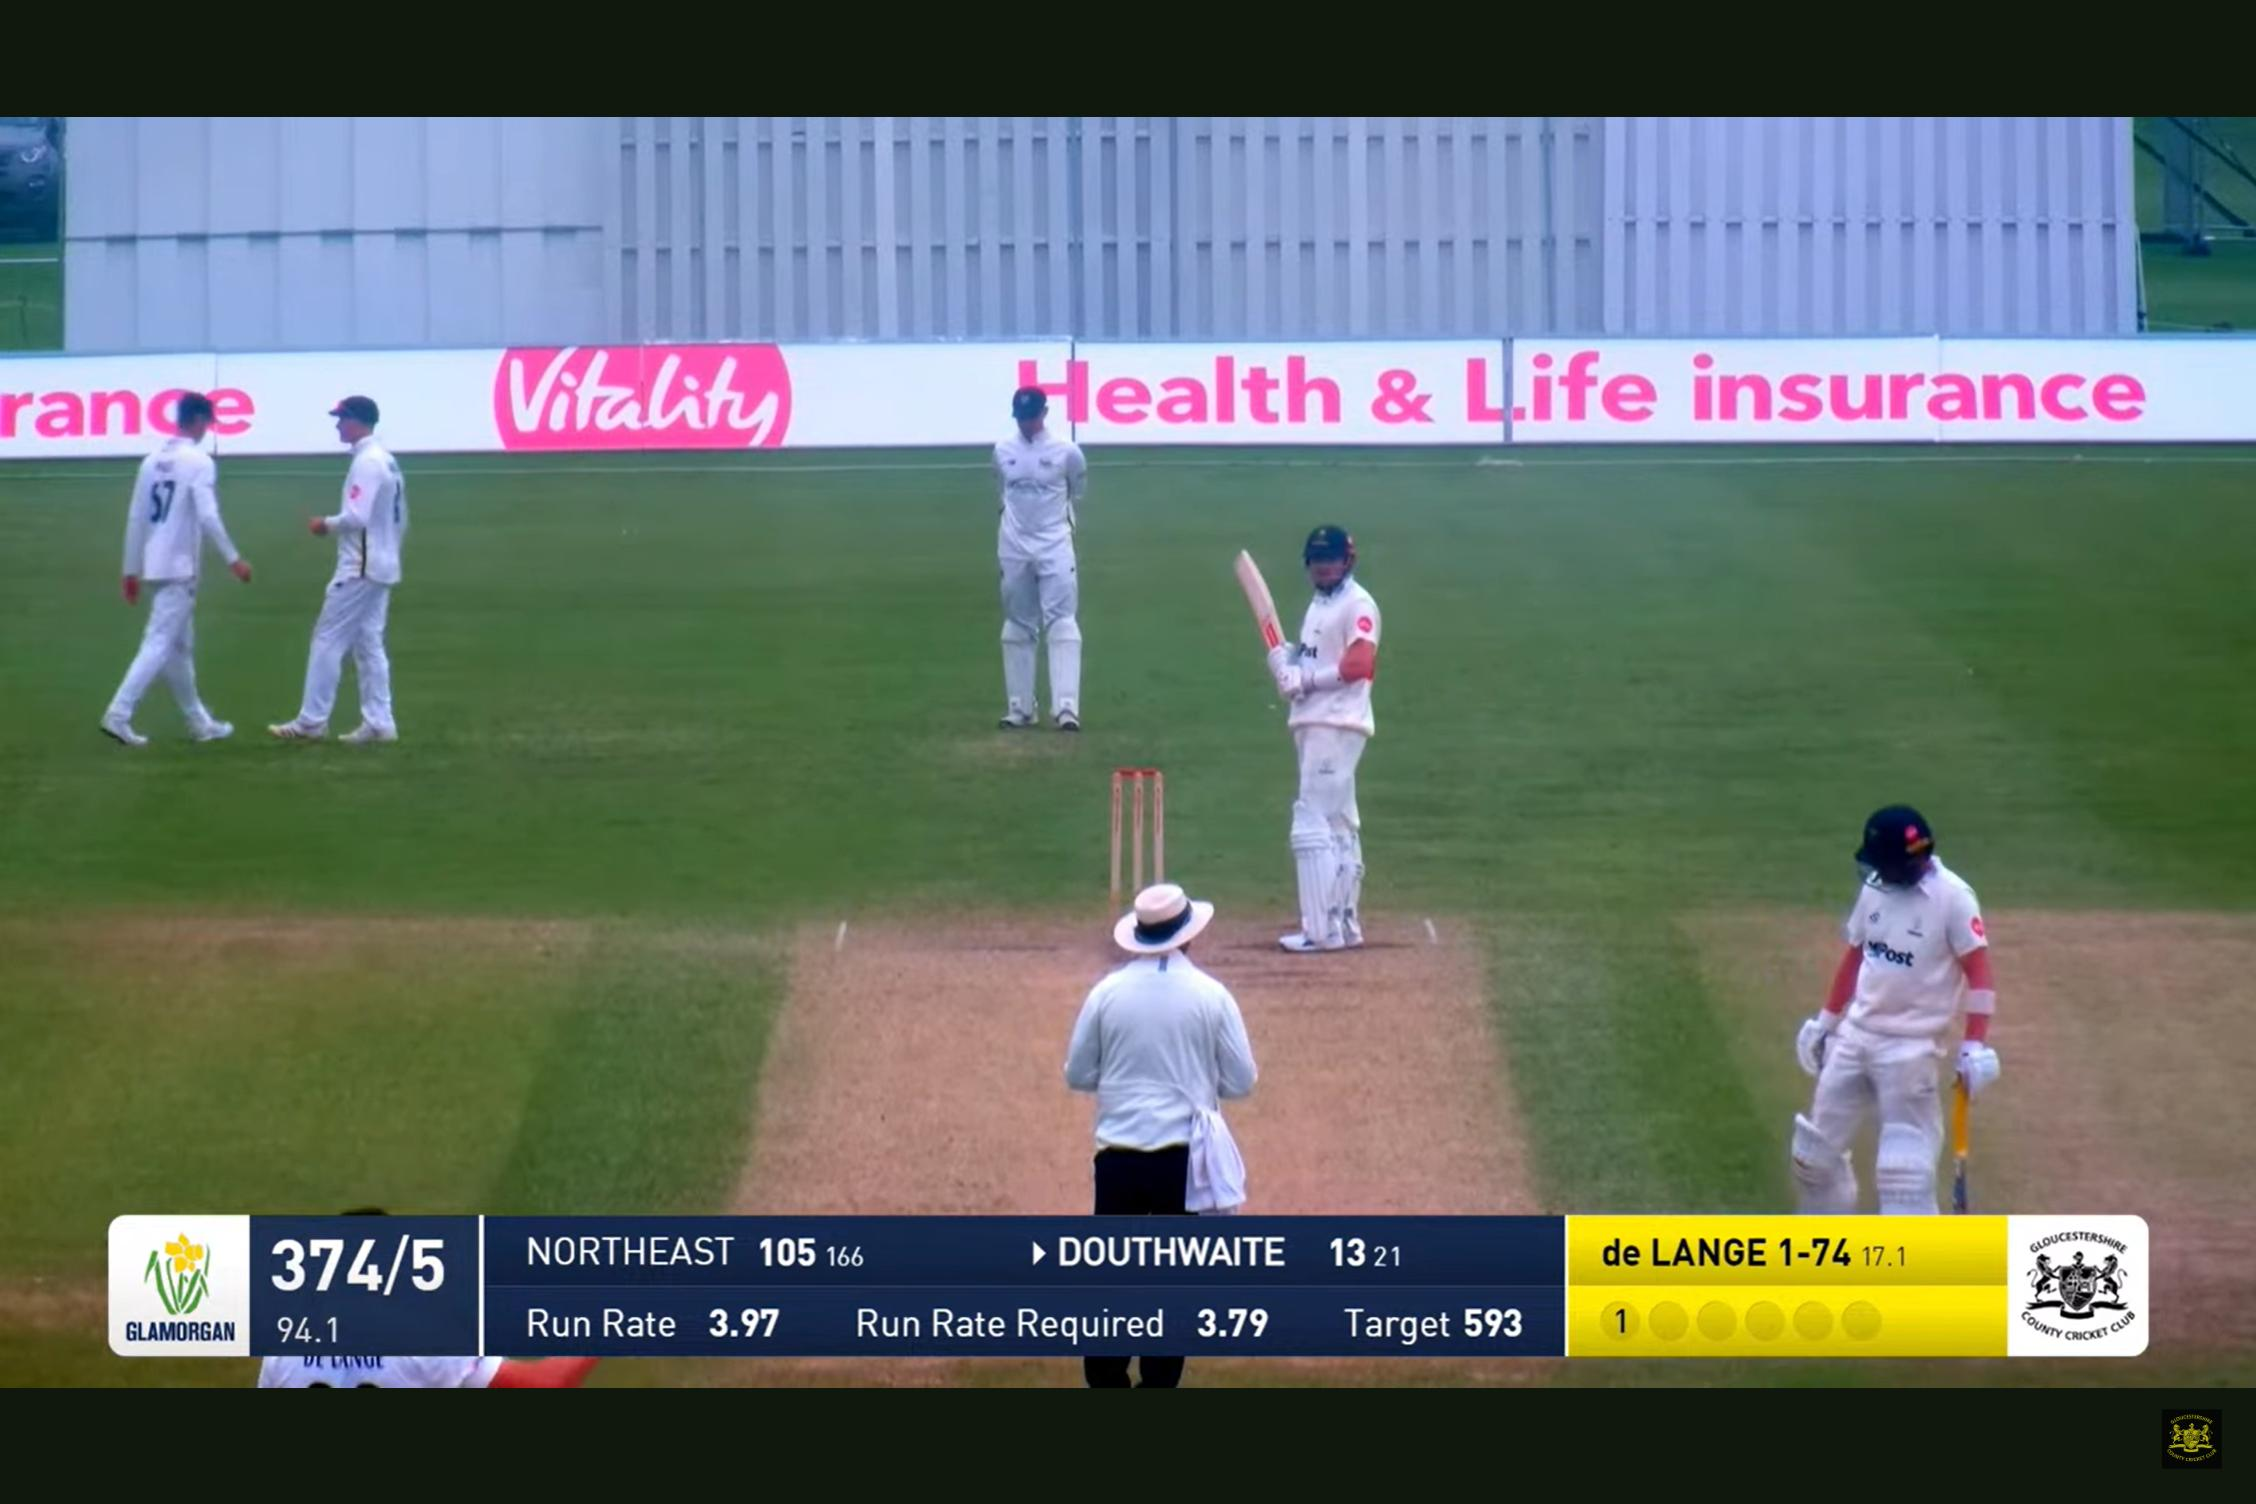batsman: (1294, 520, 1428, 948)
non striker: (1821, 764, 2009, 1204)
umpire: (1046, 888, 1281, 1209)
wicket keeper: (957, 337, 1116, 740)
